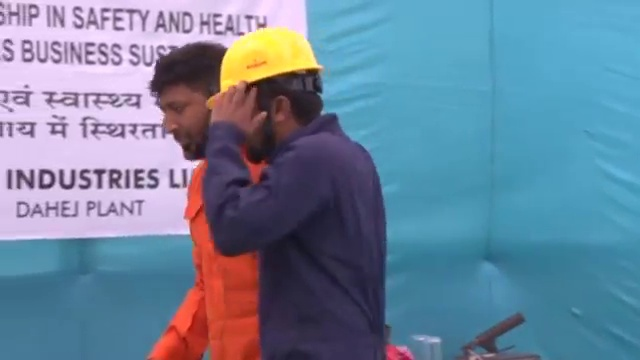helmet: (205, 26, 325, 111)
helmet_off: (150, 44, 226, 164)
helmet_on: (204, 27, 327, 164)
person: (201, 22, 390, 360), (136, 43, 262, 359)
